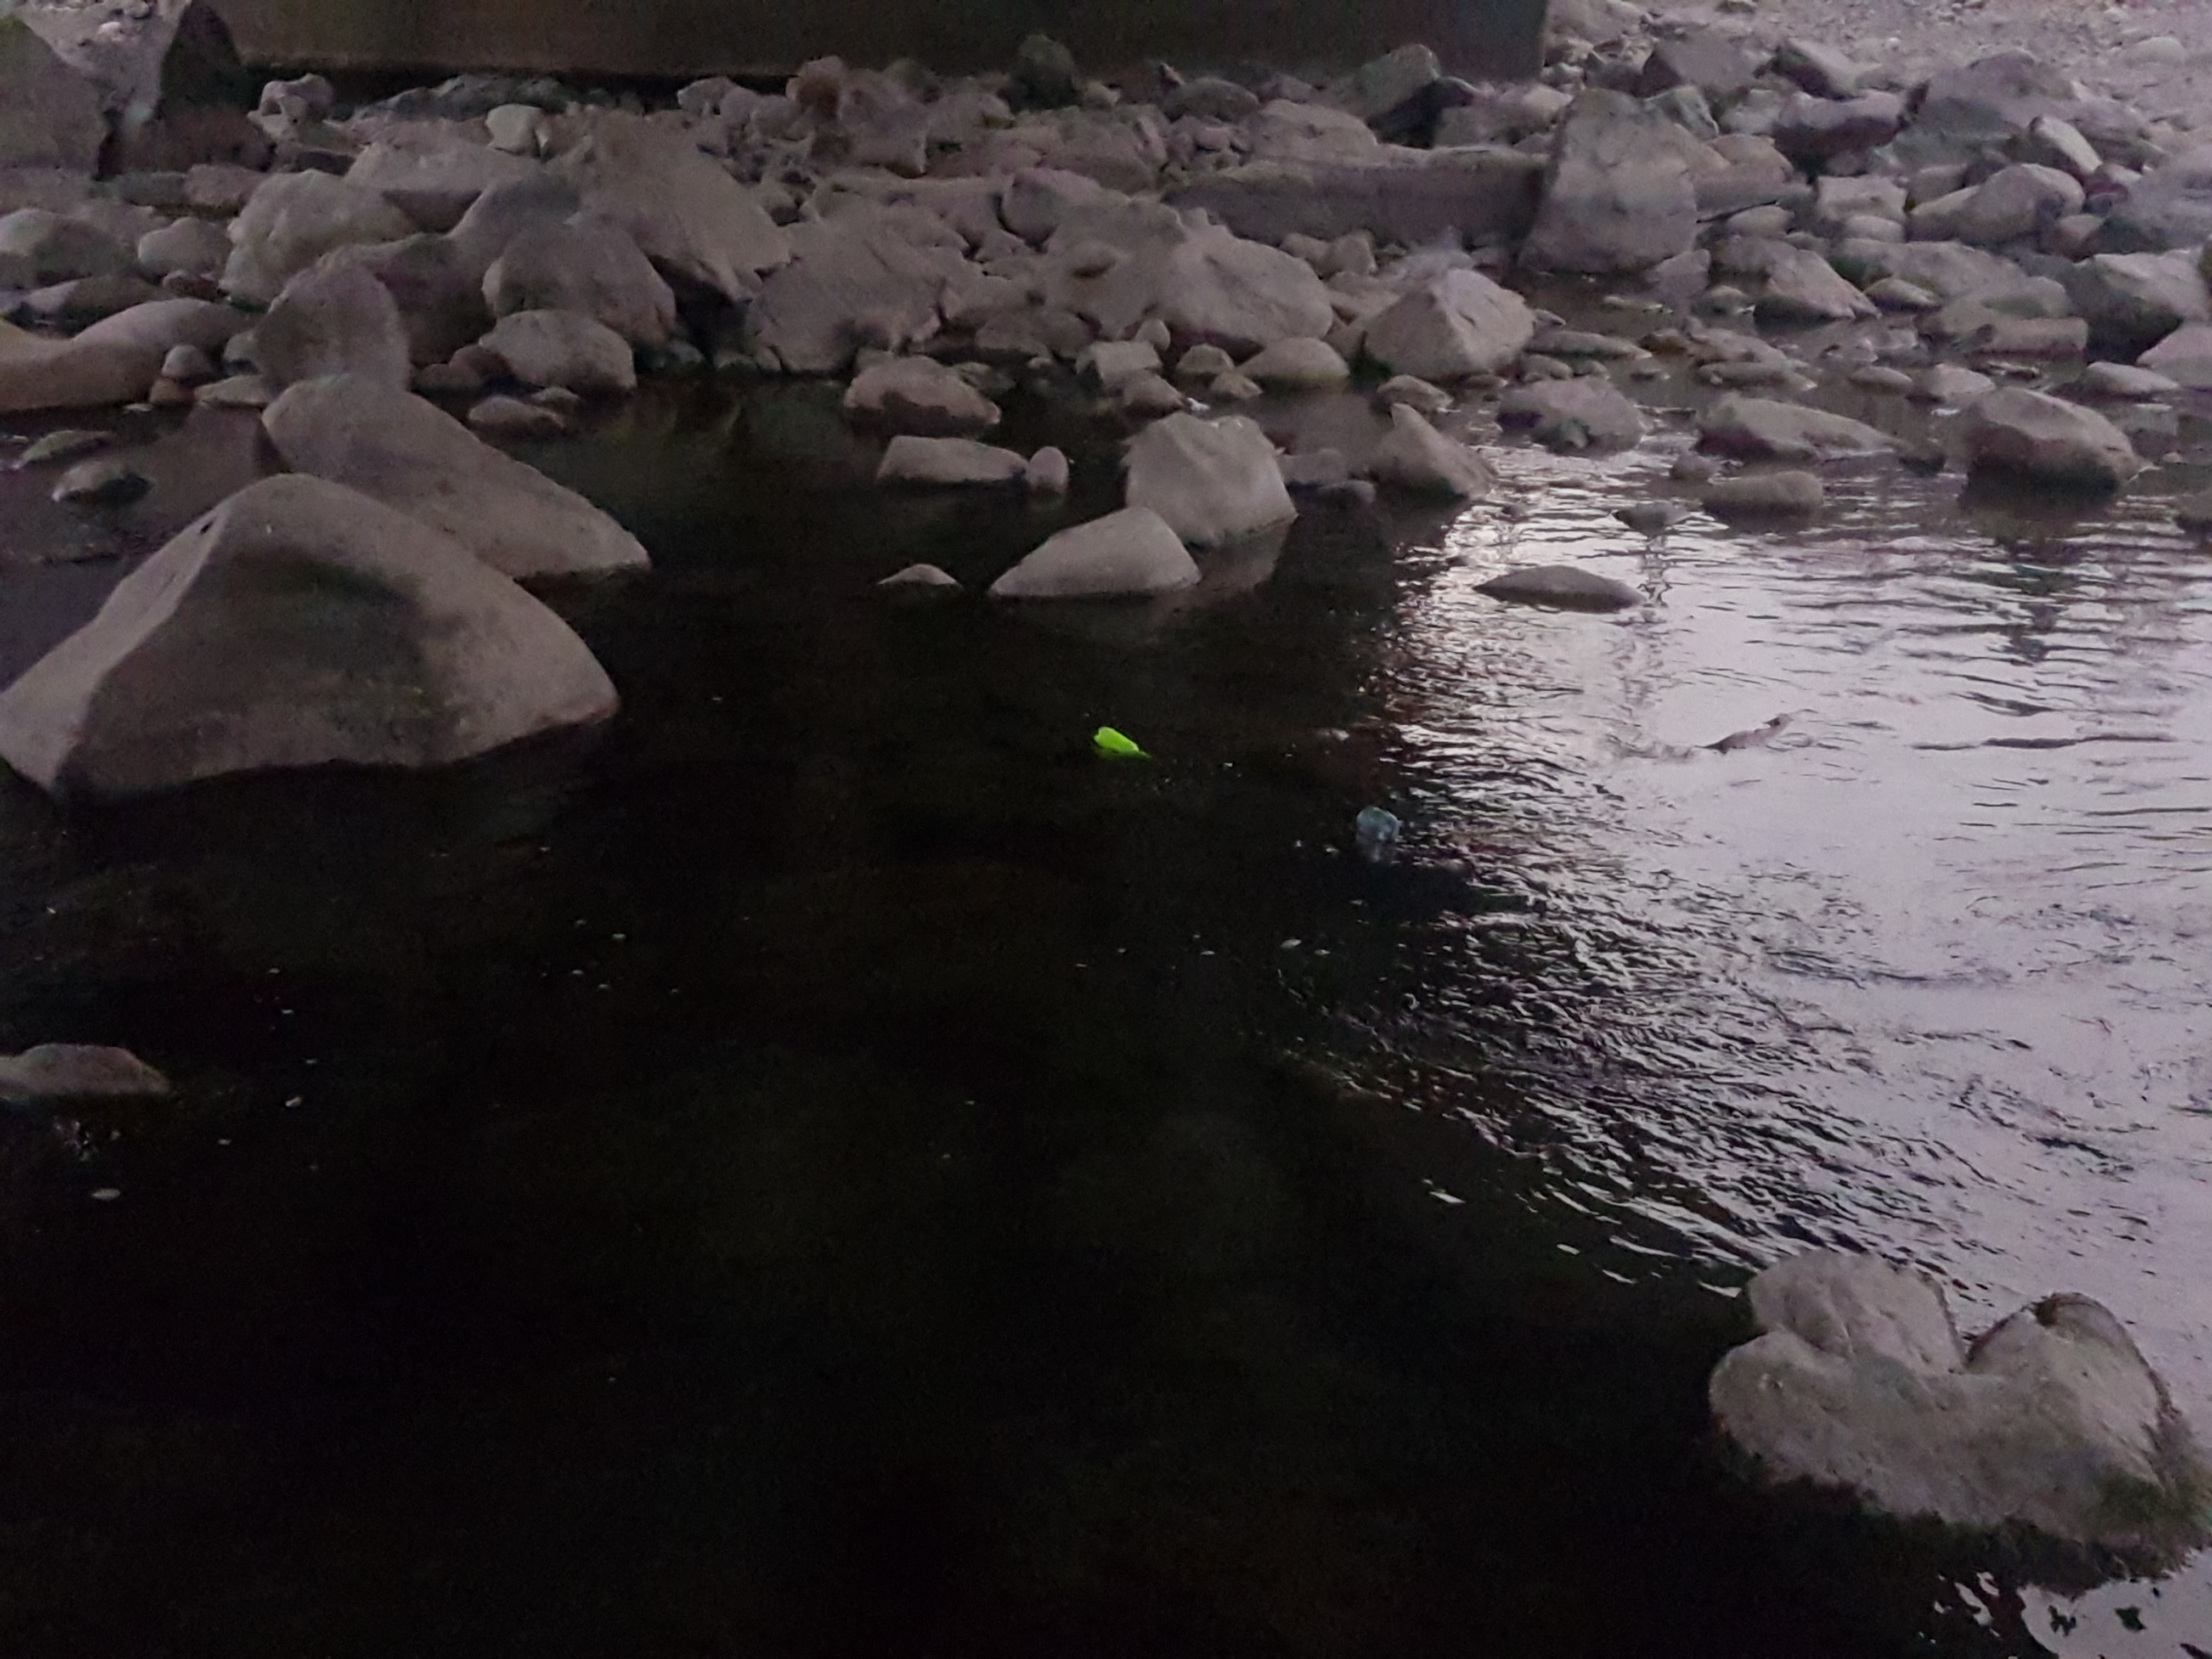Plastic Bottle: (1357, 805, 1400, 840), (1094, 725, 1139, 753)
